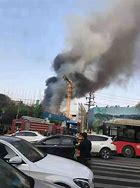smoke: (37, 1, 139, 104)
